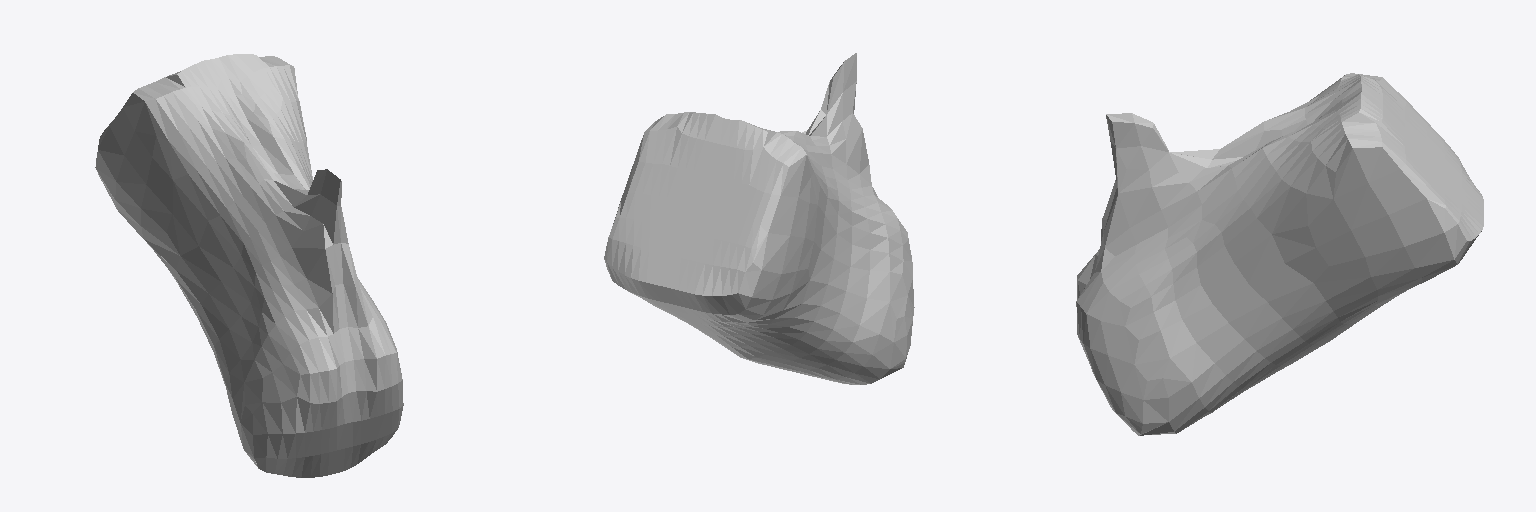
The model's file is vertabrae26.obj.
The picture shows the model from 3 angles: view 1: azimuth 30°, elevation 25°; view 2: azimuth 150°, elevation 25°; view 3: azimuth 270°, elevation 25°; orthographic projection.
Parts seen in each view (by area): view 1: Cube.120_Cube.121; view 2: Cube.120_Cube.121; view 3: Cube.120_Cube.121.
Part boxes in pixels (x1,y1,x2,y2): Cube.120_Cube.121: (95, 54, 403, 477); Cube.120_Cube.121: (604, 53, 914, 384); Cube.120_Cube.121: (1076, 73, 1483, 435).
Size of the model in its own units: 0.0423 by 0.0889 by 0.0972.